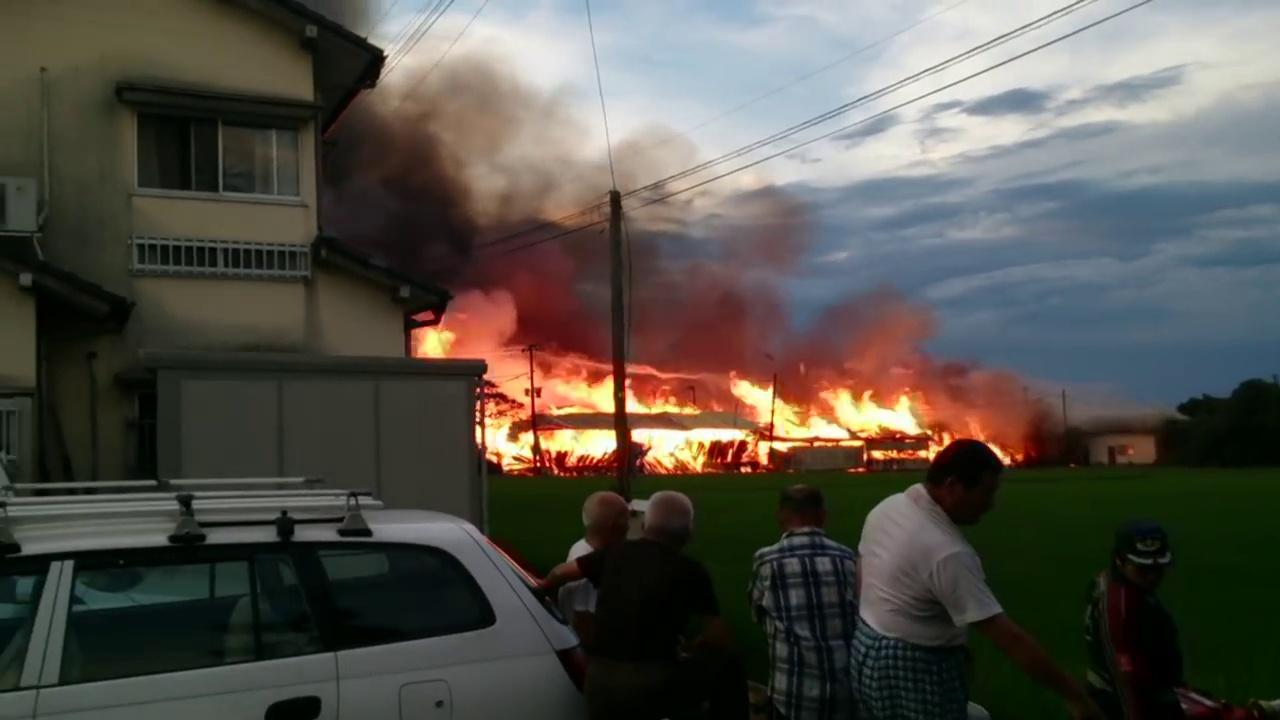fire: (491, 357, 981, 464)
smoke: (375, 107, 551, 321)
